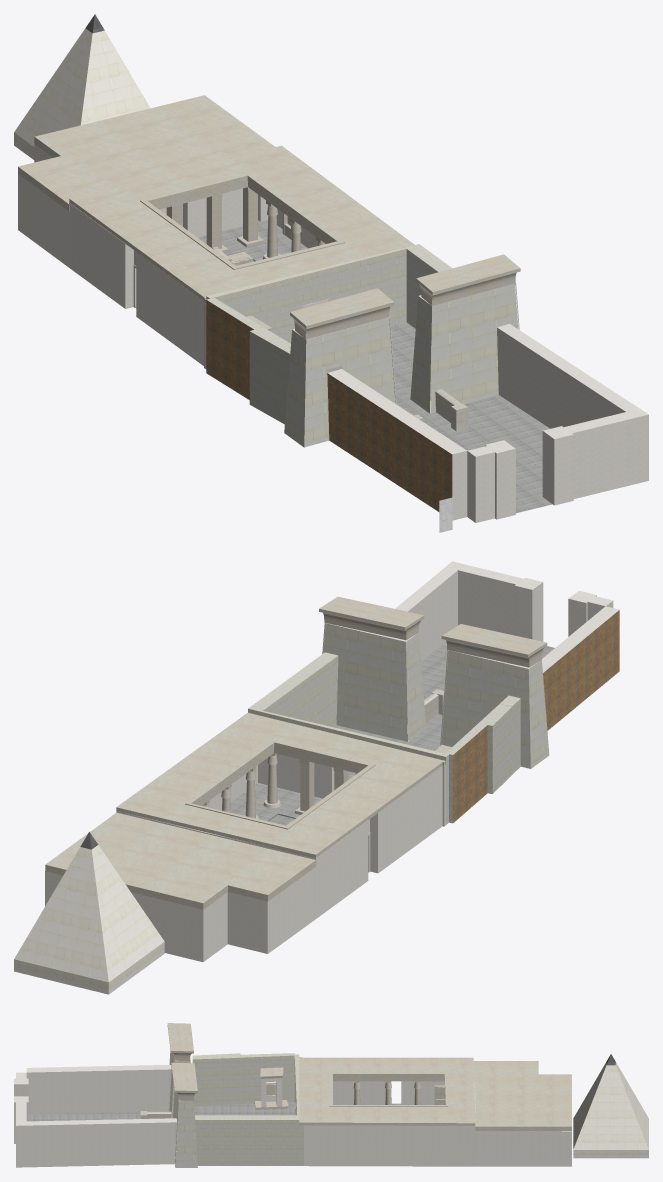
The model's file is Tia_Tia.glb.
3 views of the same model, one above another, from view 1: azimuth 30°, elevation 25°; view 2: azimuth 150°, elevation 25°; view 3: azimuth 270°, elevation 25° (orthographic). The views are drawn at different scales.
Visible parts, largest first — view 1: Mesh23 Model, Mesh24 Model, Mesh21 Component_15_1 Model, Mesh14 Component_5_1 Model, Mesh19 Component_5_2 Component_15_1 Model, Mesh20 Component_15_1 Model, Mesh18 Component_10_1 Model, Mesh11 Component_6_1 Model, Mesh10 Component_6_1 Model; view 2: Mesh23 Model, Mesh24 Model, Mesh20 Component_15_1 Model, Mesh19 Component_5_2 Component_15_1 Model, Mesh14 Component_5_1 Model, Mesh18 Component_10_1 Model, Mesh13 Component_6_1 Model; view 3: Mesh23 Model, Mesh24 Model, Mesh20 Component_15_1 Model, Mesh19 Component_5_2 Component_15_1 Model, Mesh14 Component_5_1 Model, Mesh18 Component_10_1 Model, Mesh22 Model.
Boxes of the visible parts, <box> form: Mesh23 Model: <box>18,95,648,522</box>; Mesh24 Model: <box>14,14,150,159</box>; Mesh21 Component_15_1 Model: <box>431,285,518,413</box>; Mesh14 Component_5_1 Model: <box>290,288,394,339</box>; Mesh19 Component_5_2 Component_15_1 Model: <box>416,254,520,305</box>; Mesh20 Component_15_1 Model: <box>410,283,519,413</box>; Mesh18 Component_10_1 Model: <box>153,180,331,243</box>; Mesh11 Component_6_1 Model: <box>237,187,263,247</box>; Mesh10 Component_6_1 Model: <box>206,193,228,252</box>; Mesh23 Model: <box>45,561,619,962</box>; Mesh24 Model: <box>14,832,164,994</box>; Mesh20 Component_15_1 Model: <box>322,623,426,741</box>; Mesh19 Component_5_2 Component_15_1 Model: <box>319,596,424,640</box>; Mesh14 Component_5_1 Model: <box>441,624,547,667</box>; Mesh18 Component_10_1 Model: <box>196,747,363,805</box>; Mesh13 Component_6_1 Model: <box>295,759,314,814</box>; Mesh23 Model: <box>14,1050,571,1167</box>; Mesh24 Model: <box>573,1054,648,1158</box>; Mesh20 Component_15_1 Model: <box>172,1093,197,1167</box>; Mesh19 Component_5_2 Component_15_1 Model: <box>171,1062,197,1100</box>; Mesh14 Component_5_1 Model: <box>167,1023,193,1060</box>; Mesh18 Component_10_1 Model: <box>333,1077,444,1081</box>; Mesh22 Model: <box>260,1067,283,1078</box>.
Size of the model in its own units: 11.73 by 7.07 by 45.34.
27 materials, 26 textured.
